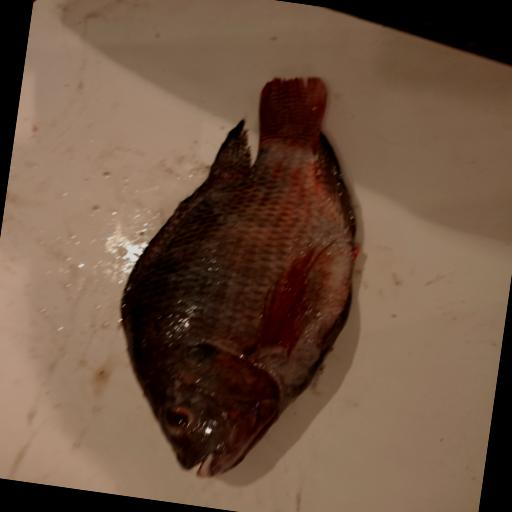Tilapia: (99, 55, 384, 495)
